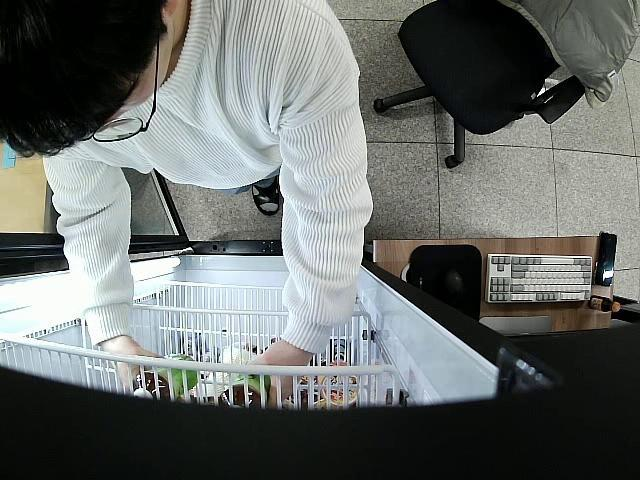19_17cha: (134, 356, 198, 403), (219, 368, 272, 410)
